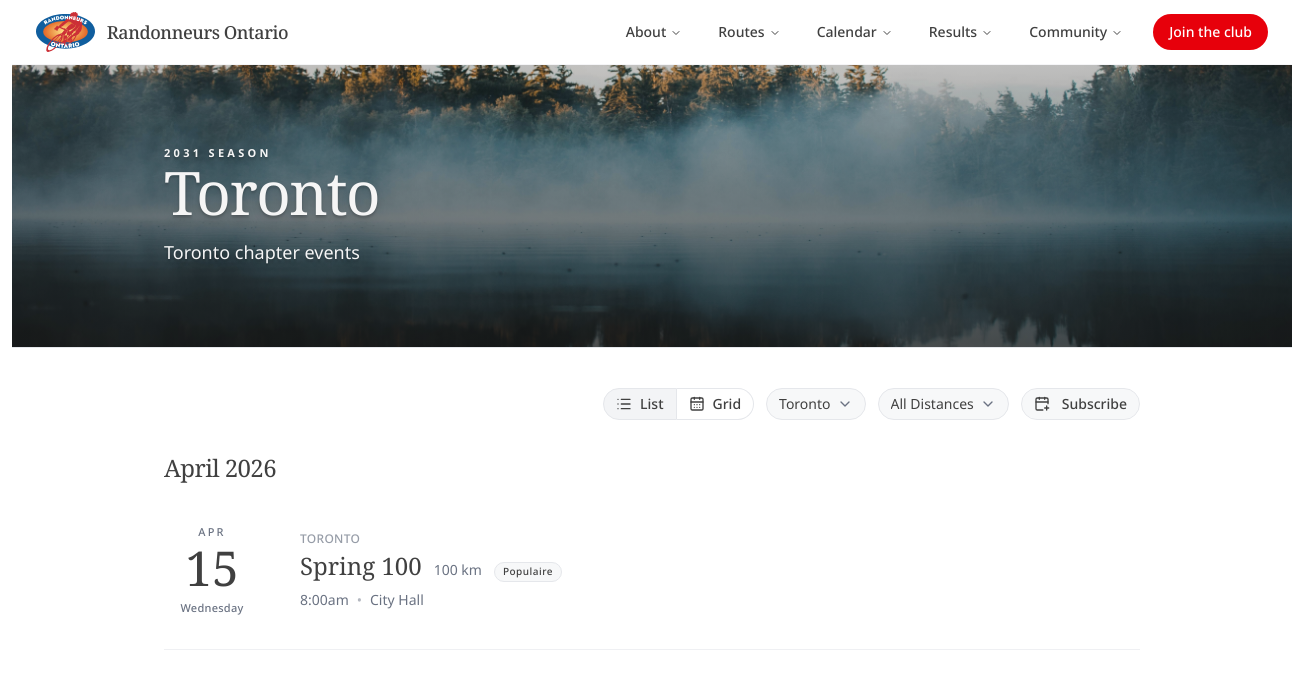
Test: CalendarPage › filters to 200 km events
What coordinates should you click on to do the following:
click the dropdown named "Filter by distance"
I would click on:
 (943, 404)
Its box is [878, 388, 1009, 420].
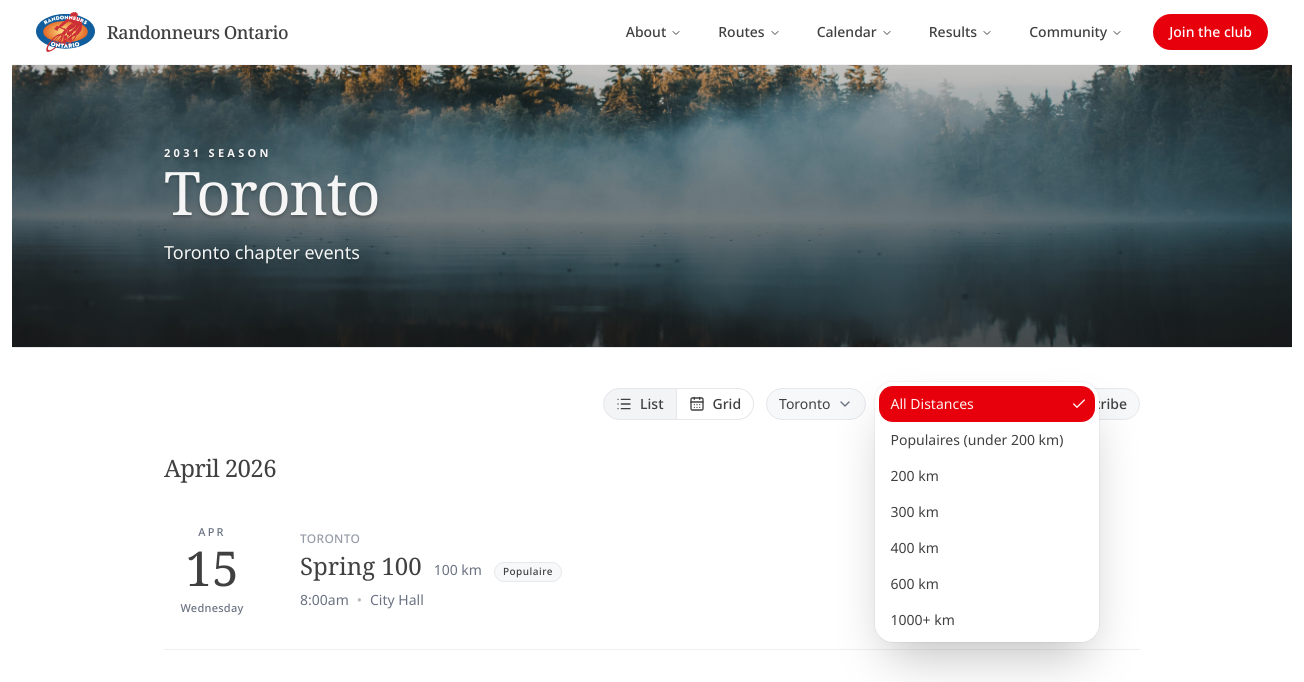
What coordinates should you click on to do the following:
click the option "200 km"
I would click on:
 (915, 475)
Its box is [890, 466, 939, 485].
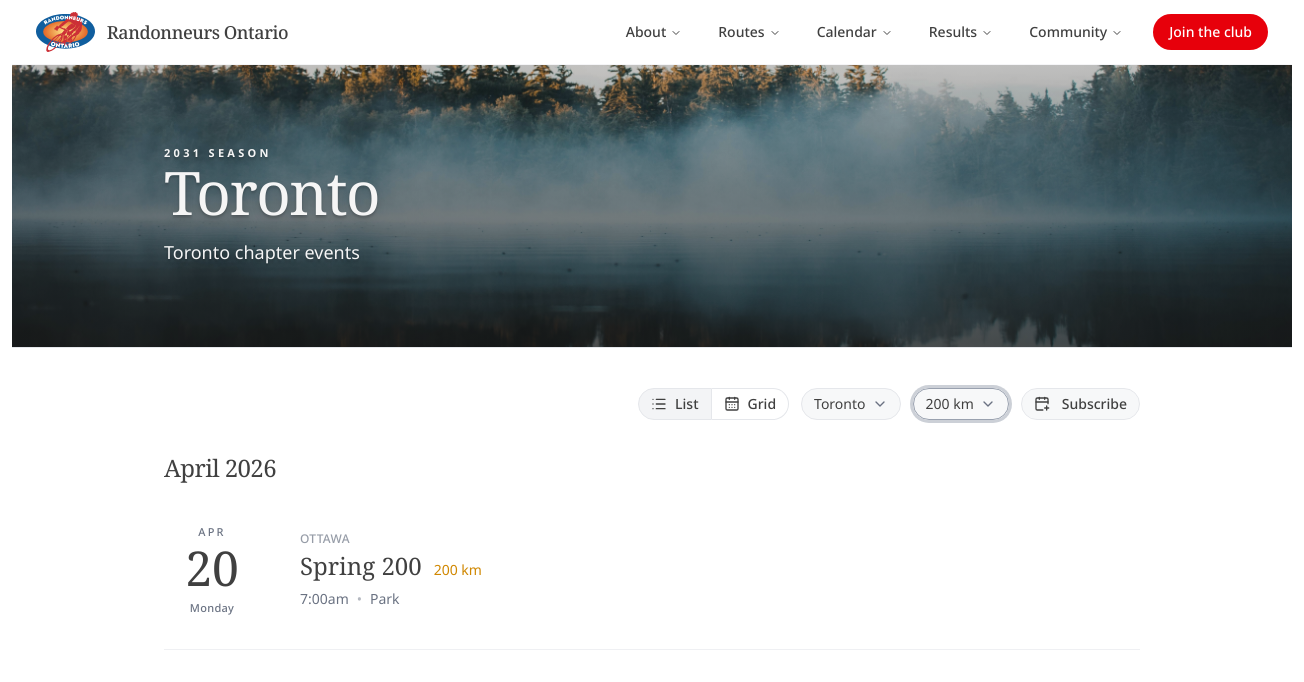
Expected: the link "Spring 200" is shown, [300, 549, 422, 583]
Now the link "Spring 100" is gone
